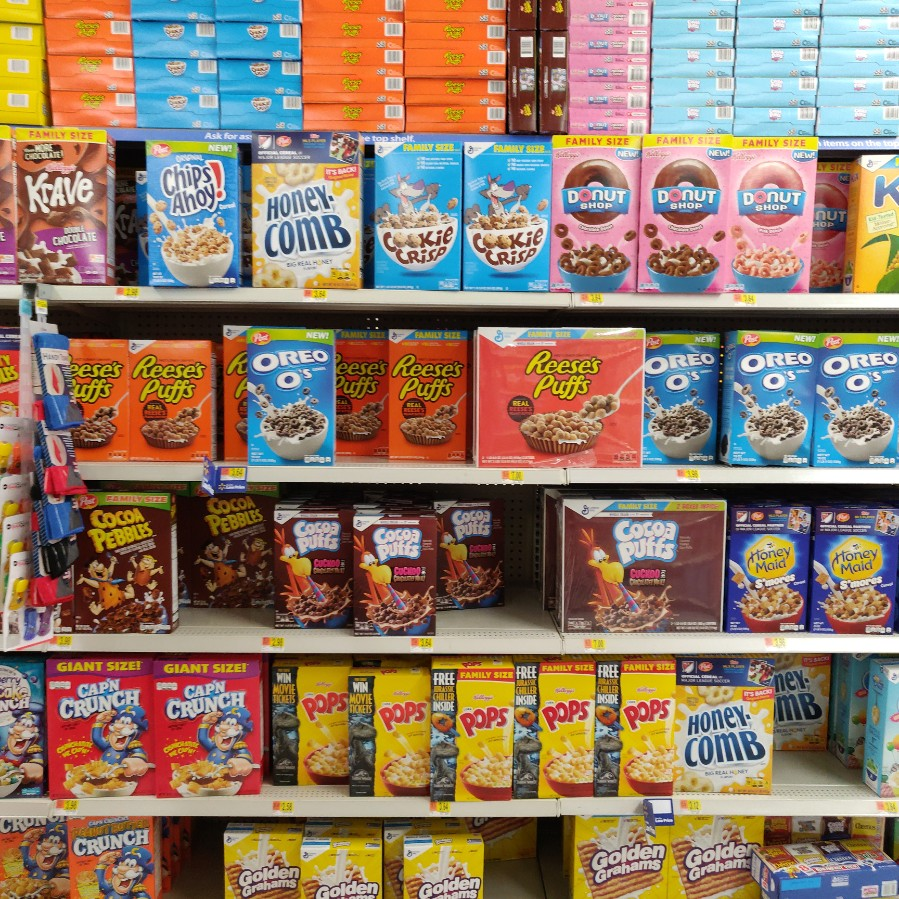Chips Ahoys-565717529: (142, 140, 240, 290)
Honey Comb- 009288857: (250, 132, 364, 290)
Oreo-563424384: (725, 329, 815, 464), (247, 328, 333, 461), (816, 330, 899, 462), (641, 335, 719, 464)
